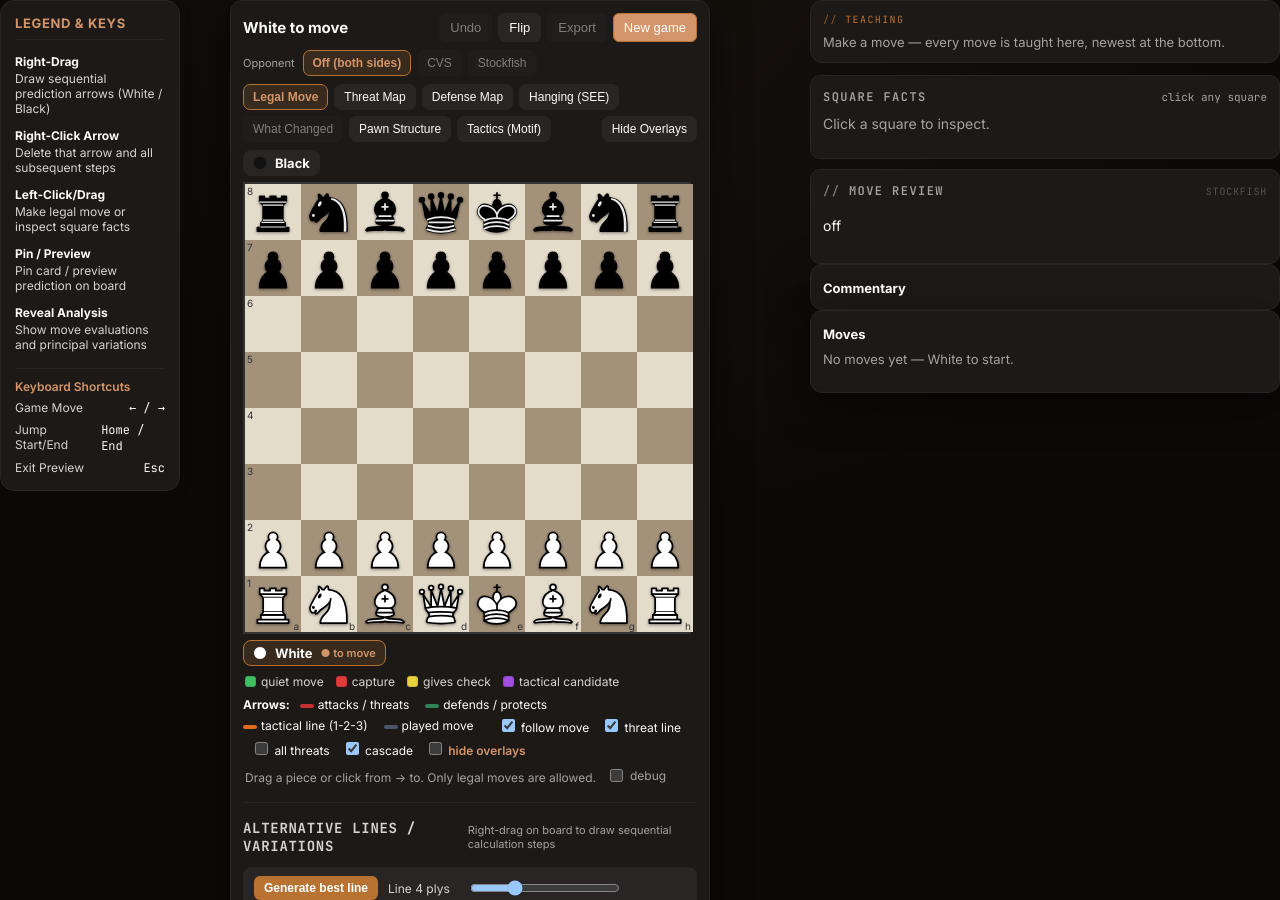
PlayMode — legal chess › inspects an EMPTY square — surfaces who can move there / controls it, with arrows
Click the element showing "3".
click(273, 492)  # box top-left (245, 464), bottom-right (301, 520)
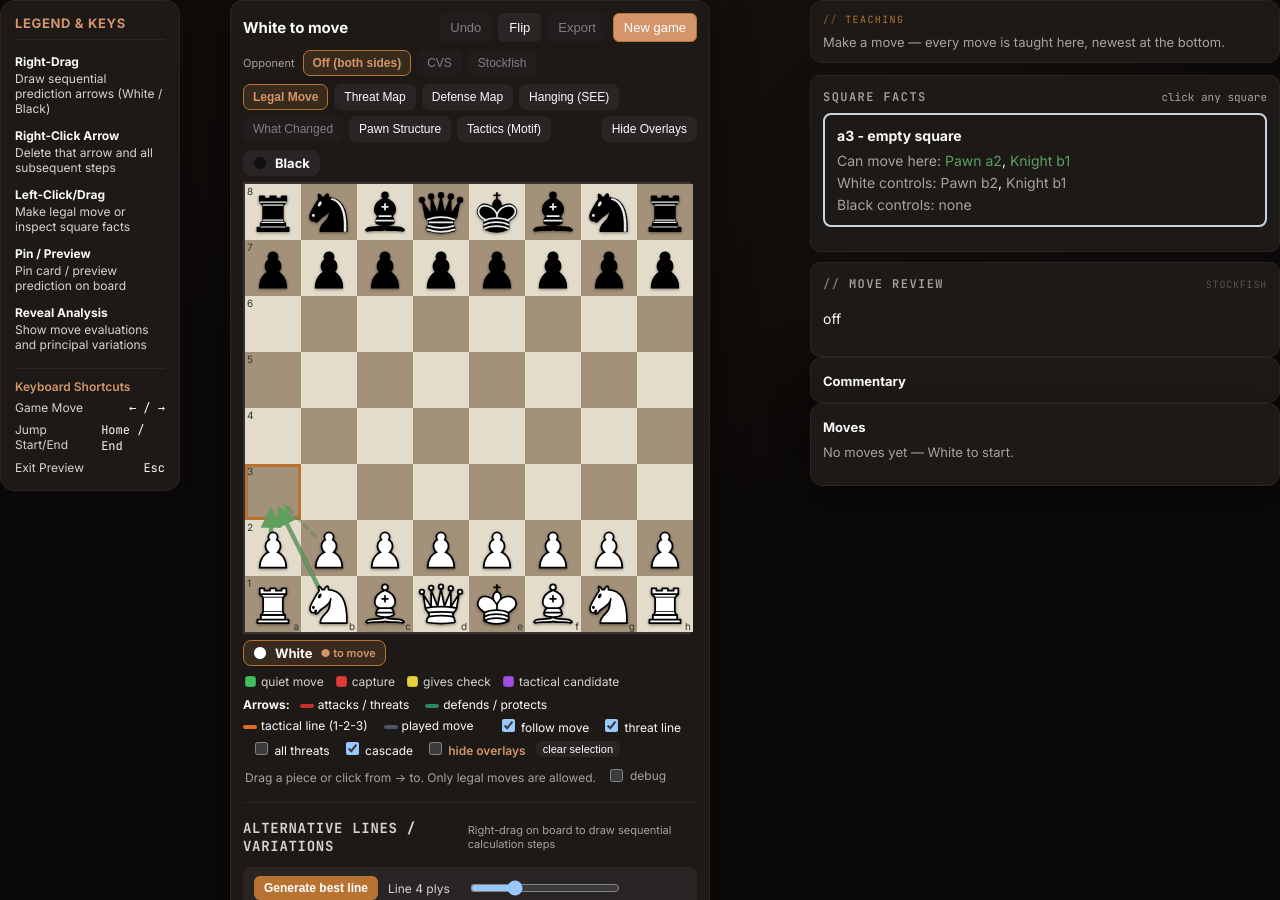
Now the text "empty square" is shown, box top-left (854, 127), bottom-right (962, 144)
Now the text "Can move here" is shown, box top-left (837, 152), bottom-right (937, 169)
Now the text "Pawn a2" is shown, box top-left (945, 152), bottom-right (1002, 169)
